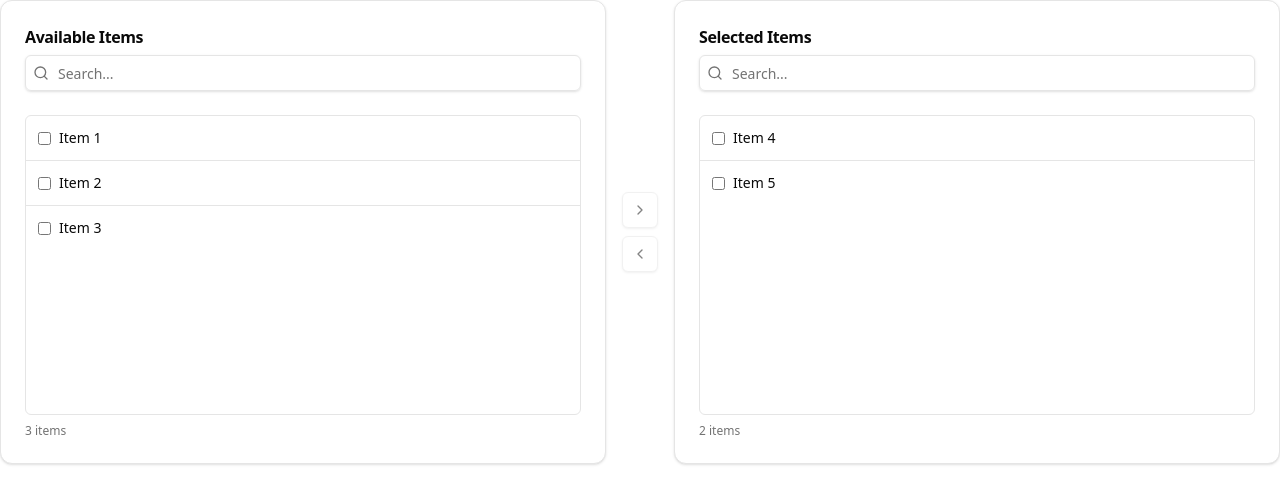
Scenario: DualListSelector Component › filters items based on search input
Type "Item 1" into the field with placeholder "Search..." below "Available Items".
click(303, 73); type("Item 1")  # box [25, 55, 581, 91]
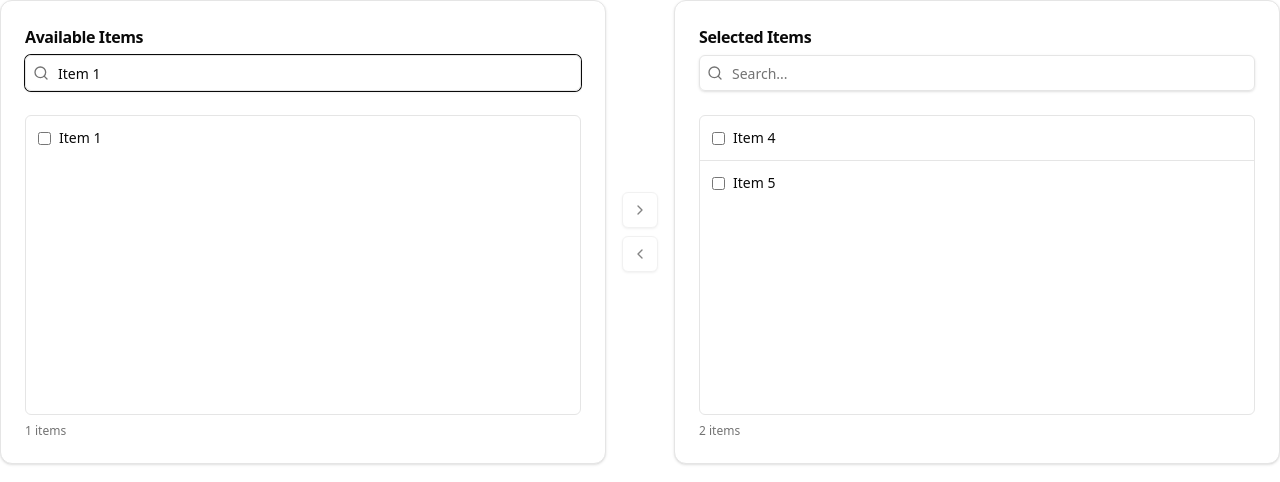
Expected: the text "Item 1" is shown, [59, 128, 101, 148]
Expected: the button "Item 2" is gone
Expected: the button "Item 3" is gone
